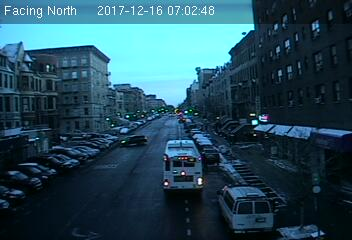bus: (163, 140, 204, 195)
car: (202, 147, 220, 163)
police: (216, 183, 275, 234)
